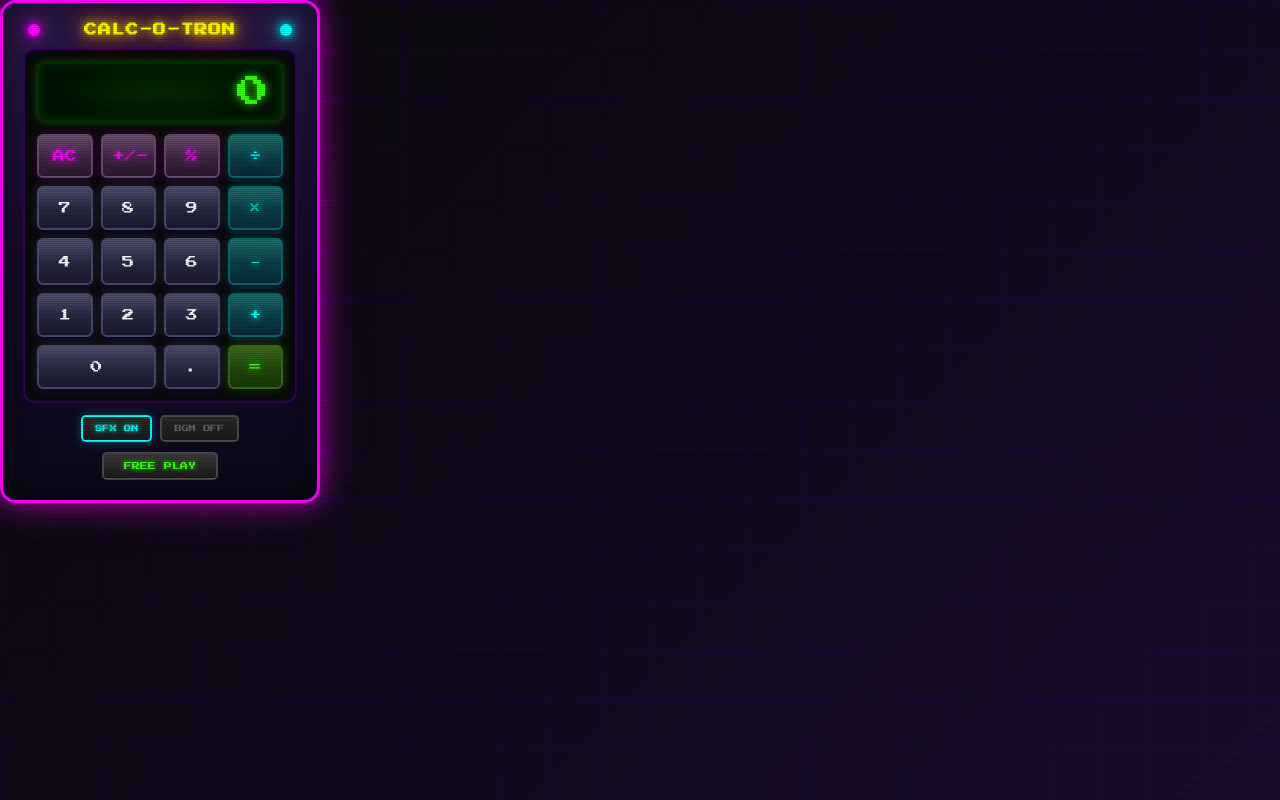
Test: Calculator › replaces initial 0 when inputting digits
Click the button "5": (128, 262) [100,238,156,285]
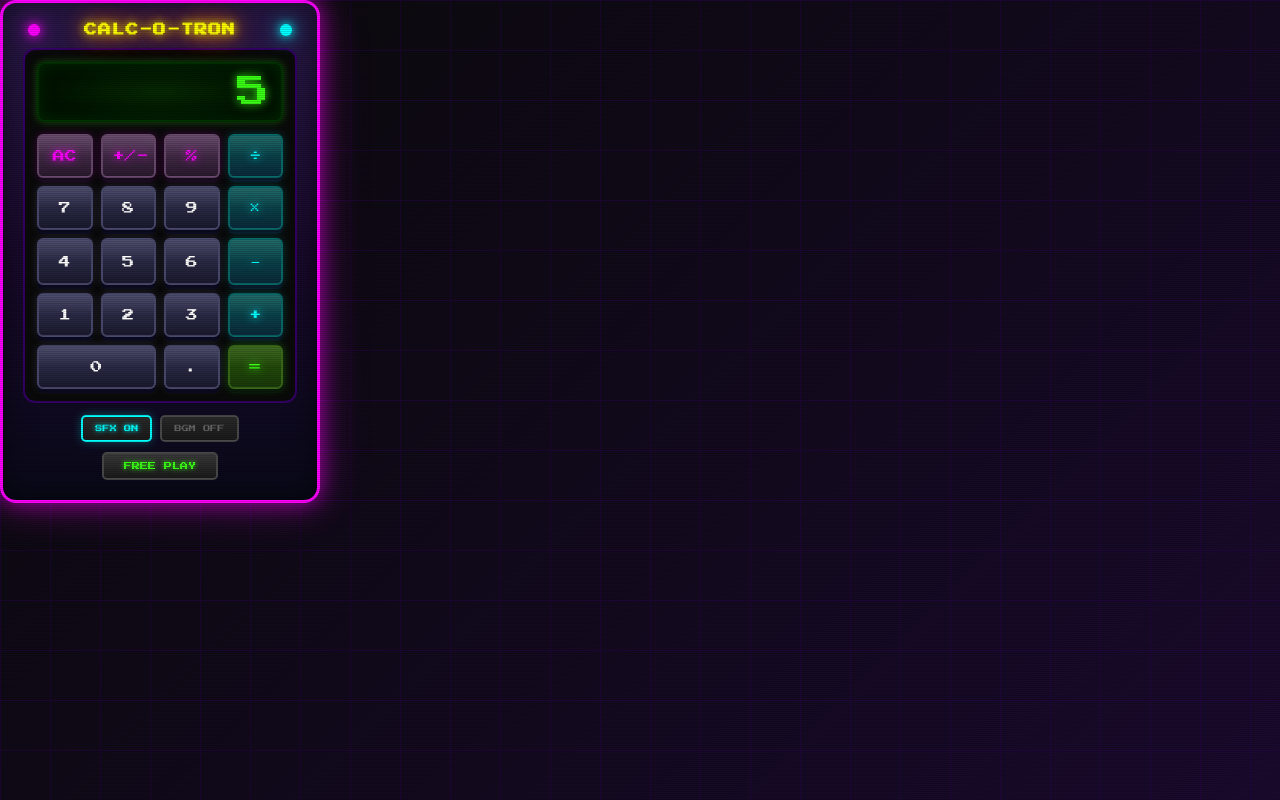
Check: the text with test id "display" reads "5", box [237,76,269,108]
